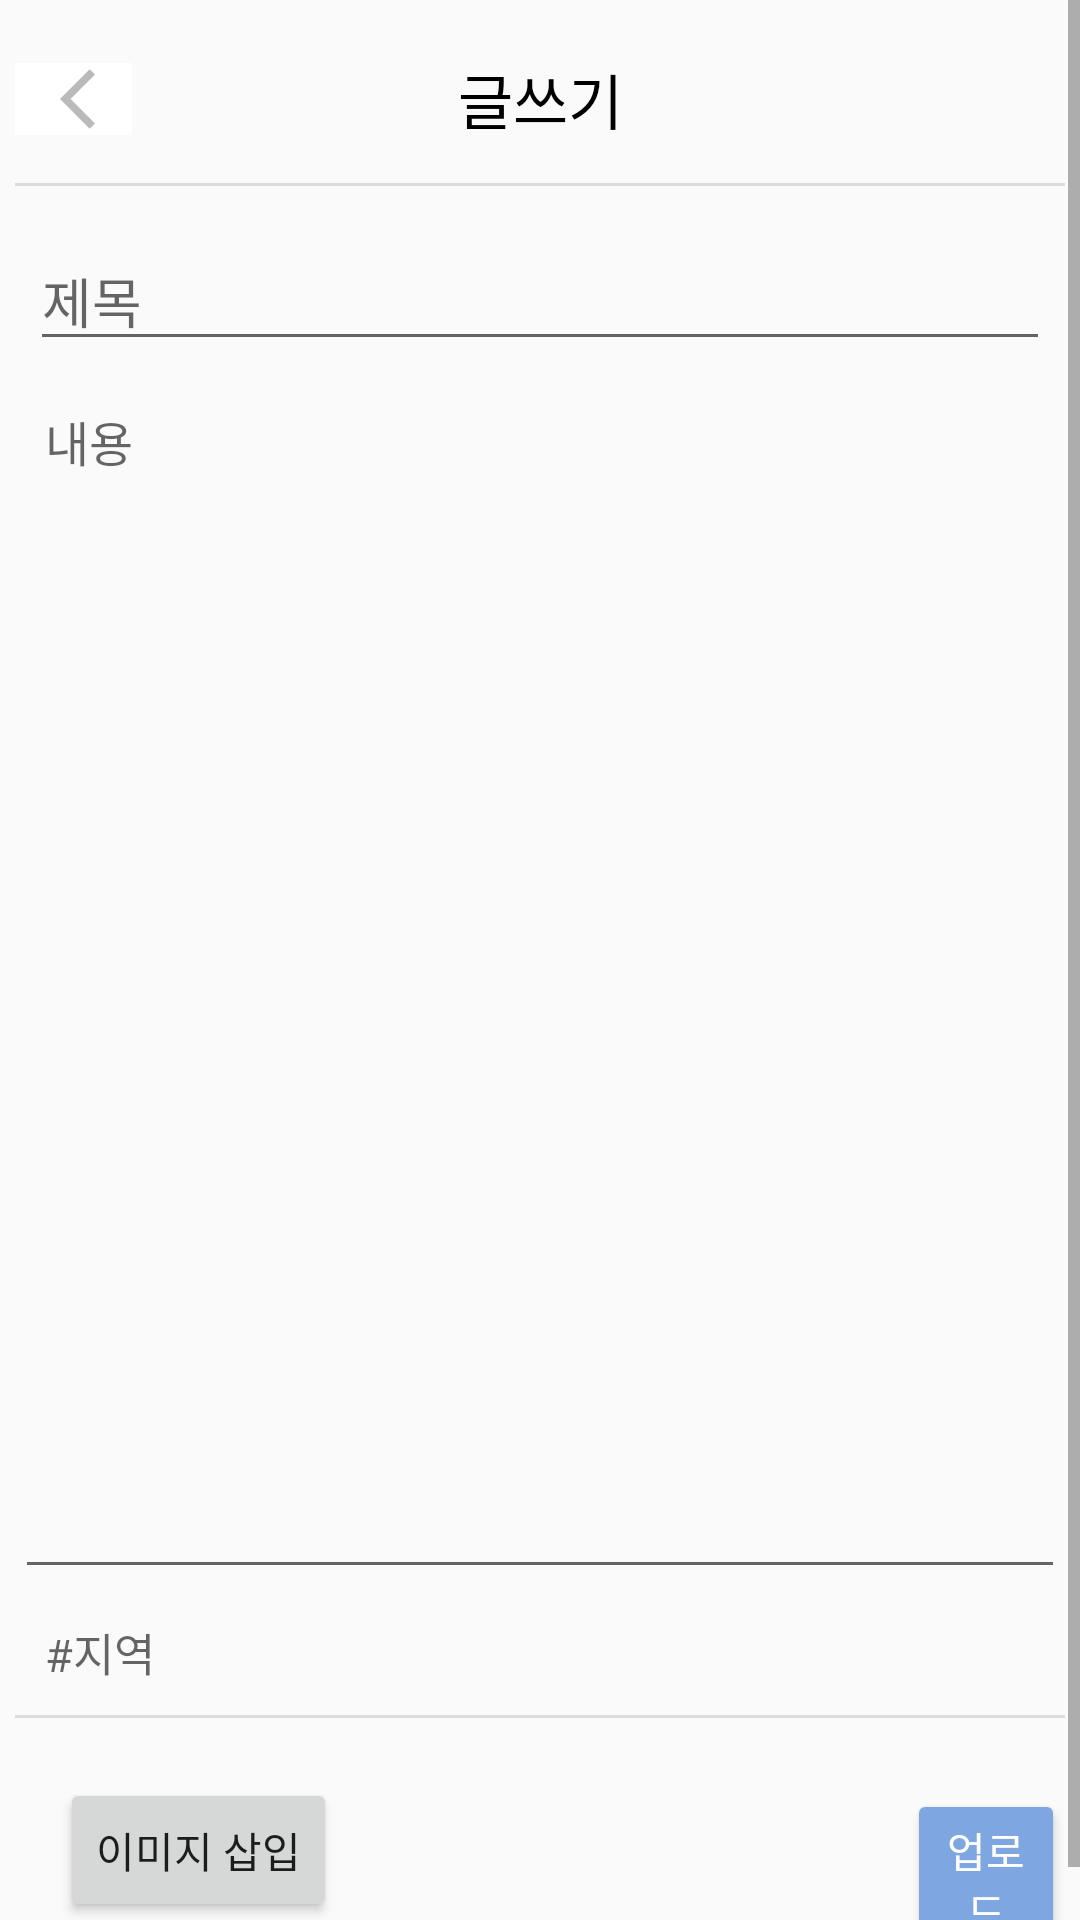

Icon bounding boxes for this 1080px x 1920px phone screenshot, format [x1,y1,x2,y2]:
arrow back: [60,69,95,129]
